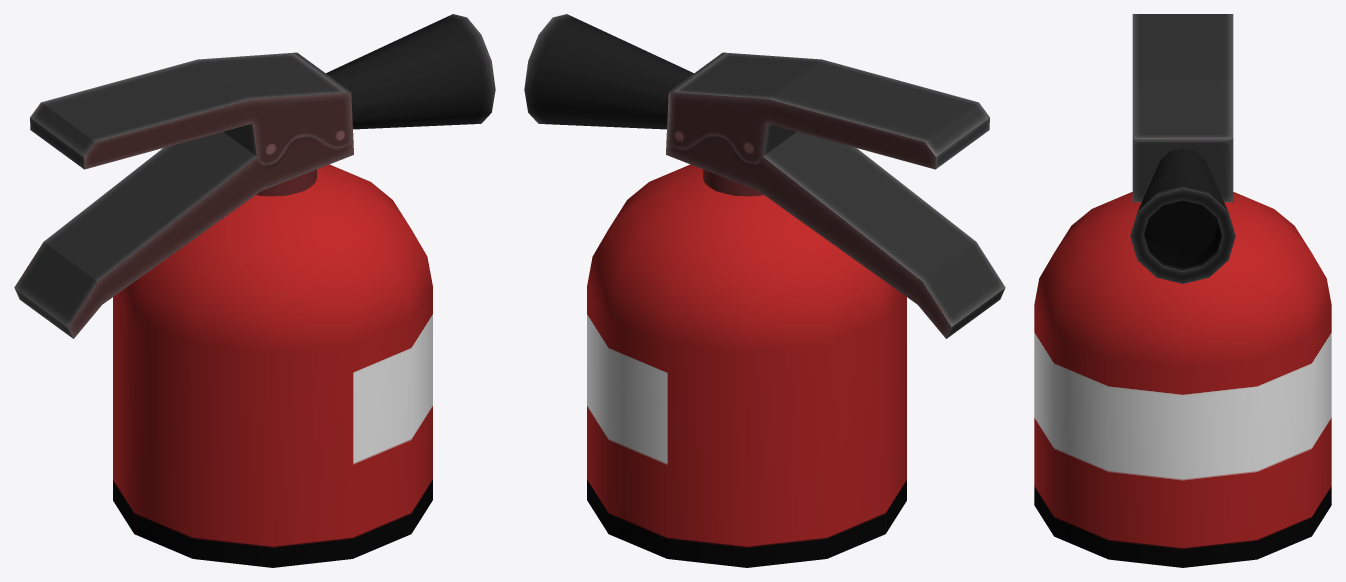
The model's file is FireExtinguisher.obj.
The picture shows the model from 3 angles, left to right: view 1: azimuth 30°, elevation 25°; view 2: azimuth 150°, elevation 25°; view 3: azimuth 270°, elevation 25°; orthographic projection. The views are drawn at different scales.
Parts seen in each view (by area): view 1: Mesh; view 2: Mesh; view 3: Mesh.
Part boxes in pixels (box(x1,y1,x2,y2)): Mesh: box(14, 14, 495, 567); Mesh: box(524, 14, 1005, 567); Mesh: box(1034, 14, 1331, 567).
Bounding box in the file's own units: 0.8913 × 0.8709 × 0.5801.
Materials: 1 (1 with a texture image).
